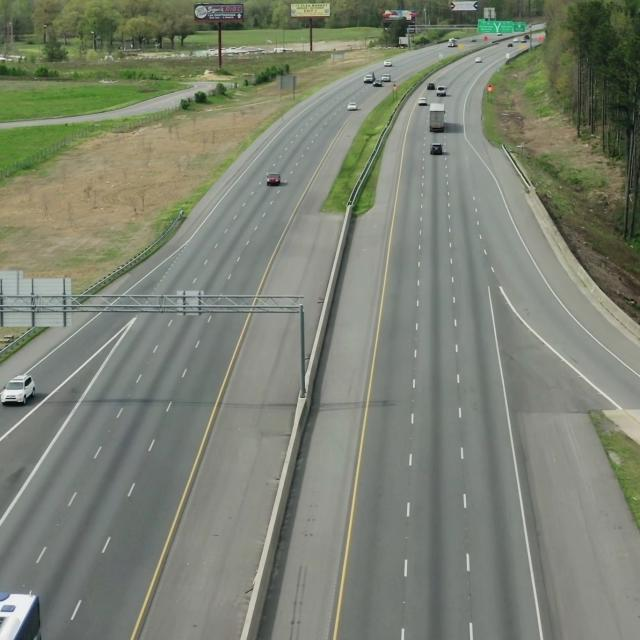Car: (1, 372, 37, 409), (260, 171, 285, 189)
